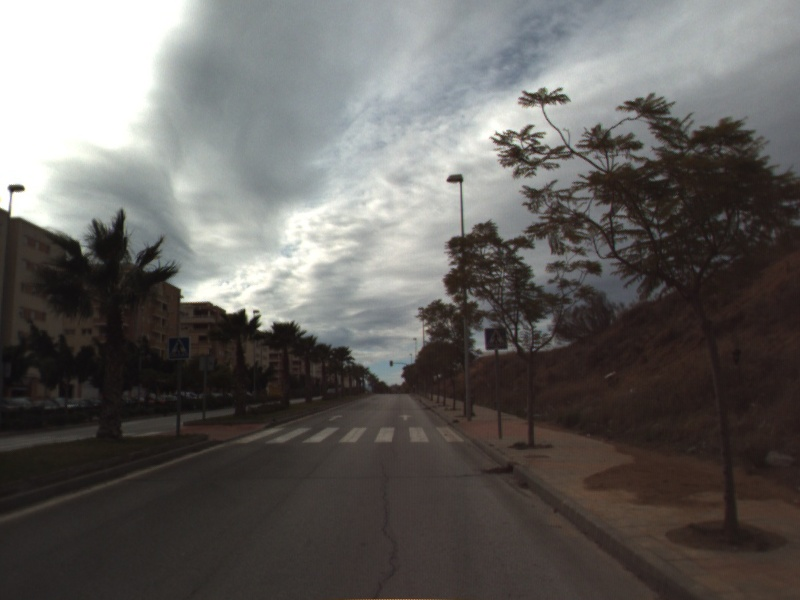STRAIGHT: (326, 412, 345, 423), (397, 412, 414, 422)
